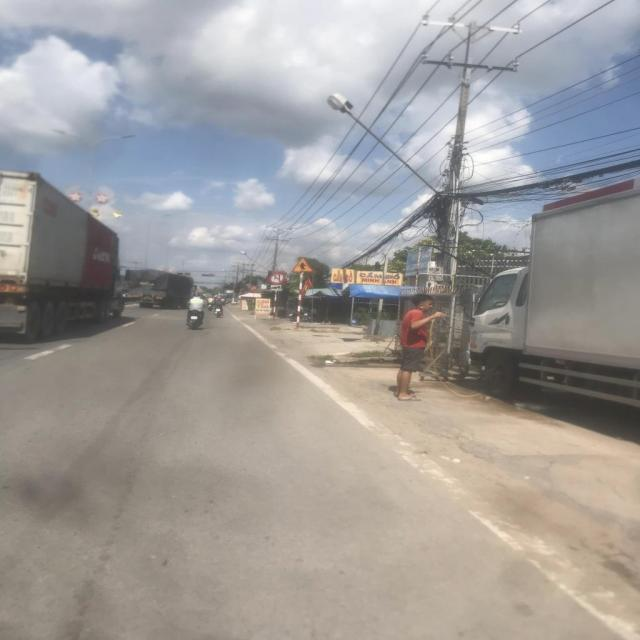124a-cam-quay-dau-xe: (268, 272, 286, 284)
207-giao-nhau-voi-duong-khong-uu-tien: (292, 256, 312, 272)
